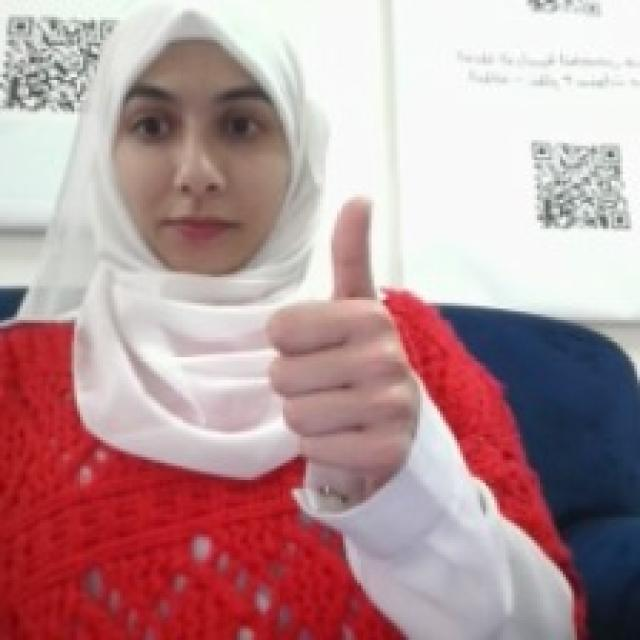fine: (264, 186, 418, 478)
